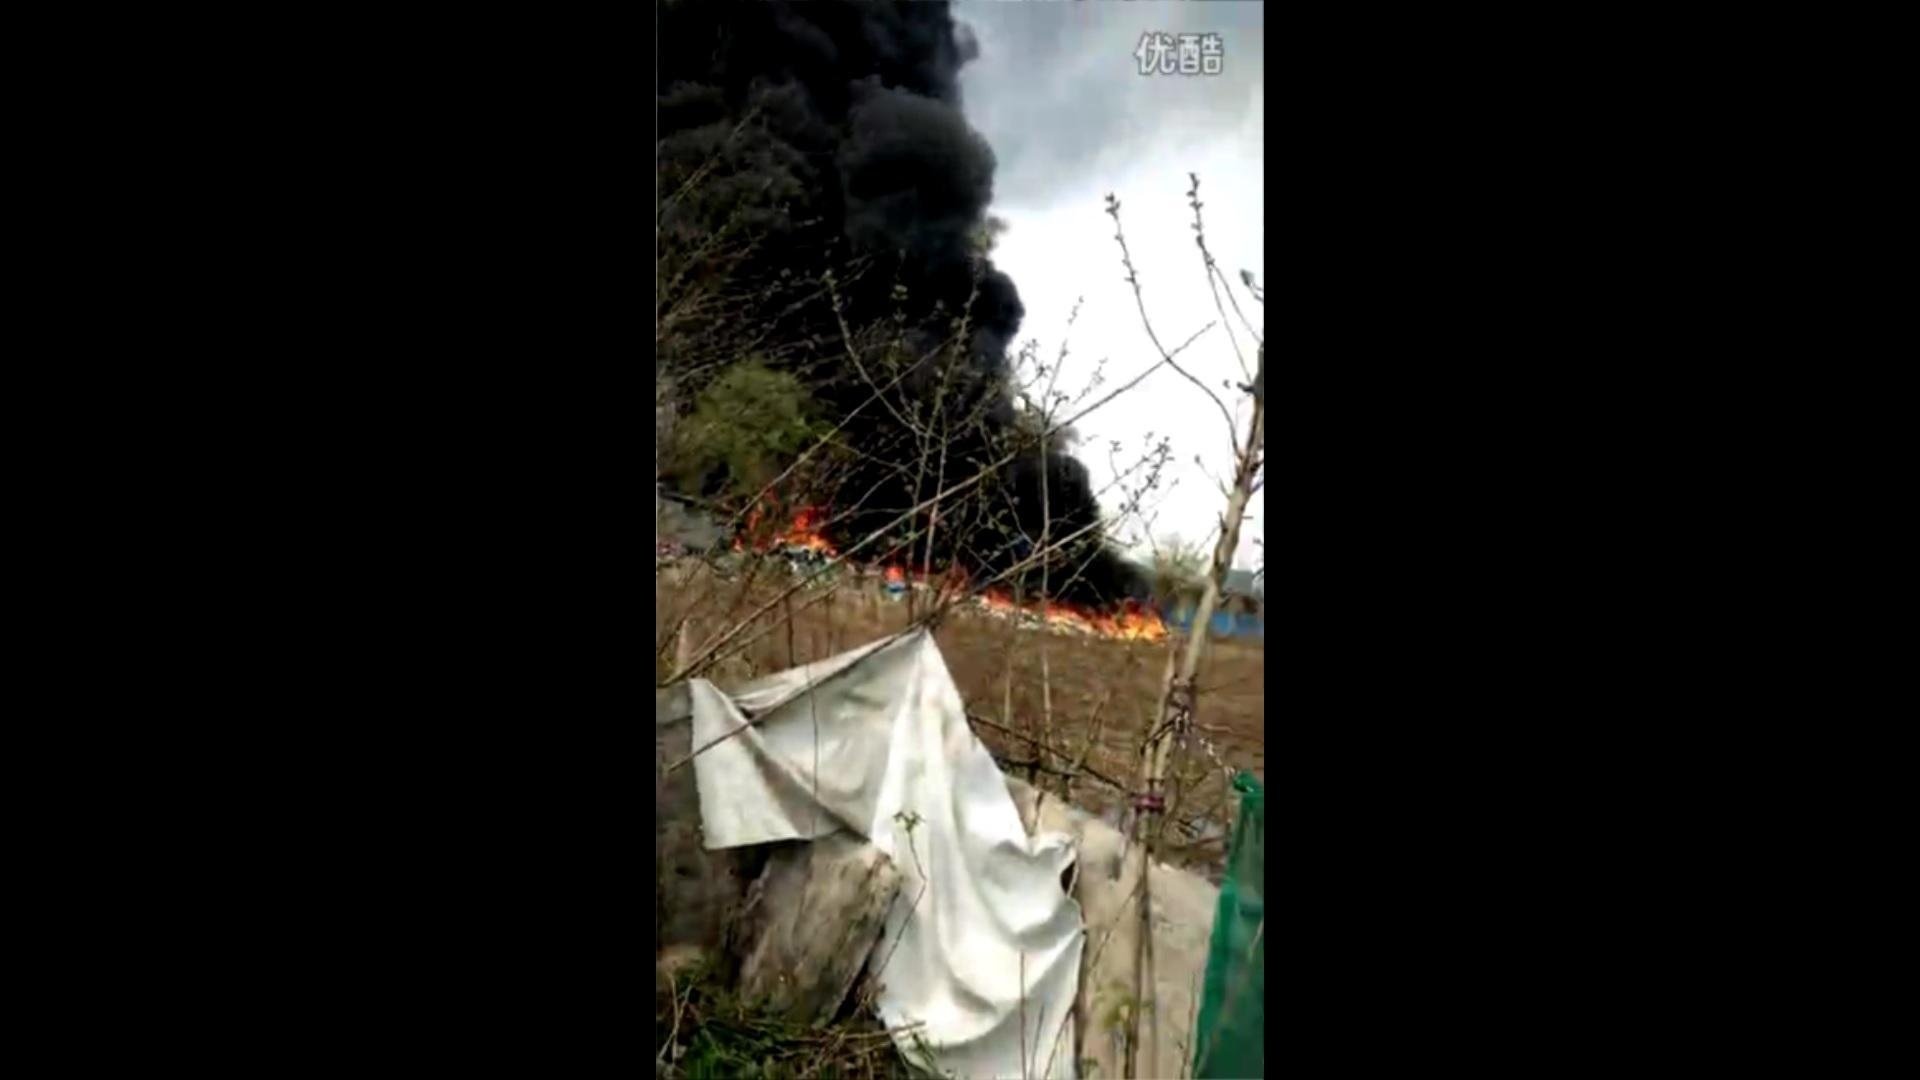fire: (750, 497, 1179, 644)
